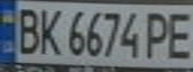4: (118, 8, 145, 60)
6: (63, 7, 87, 56), (84, 8, 106, 57)
7: (103, 8, 124, 59)
B: (9, 4, 42, 55)
E: (163, 7, 193, 61)
K: (33, 4, 63, 56)
P: (142, 8, 175, 60)
